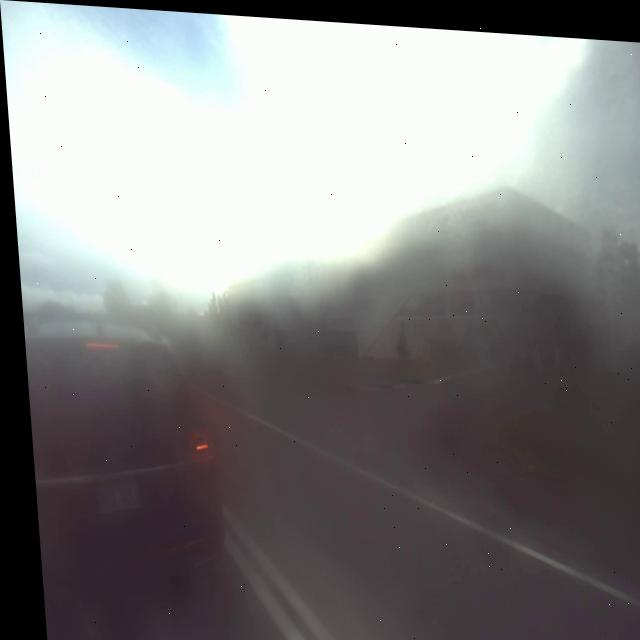car: (16, 269, 221, 586)
